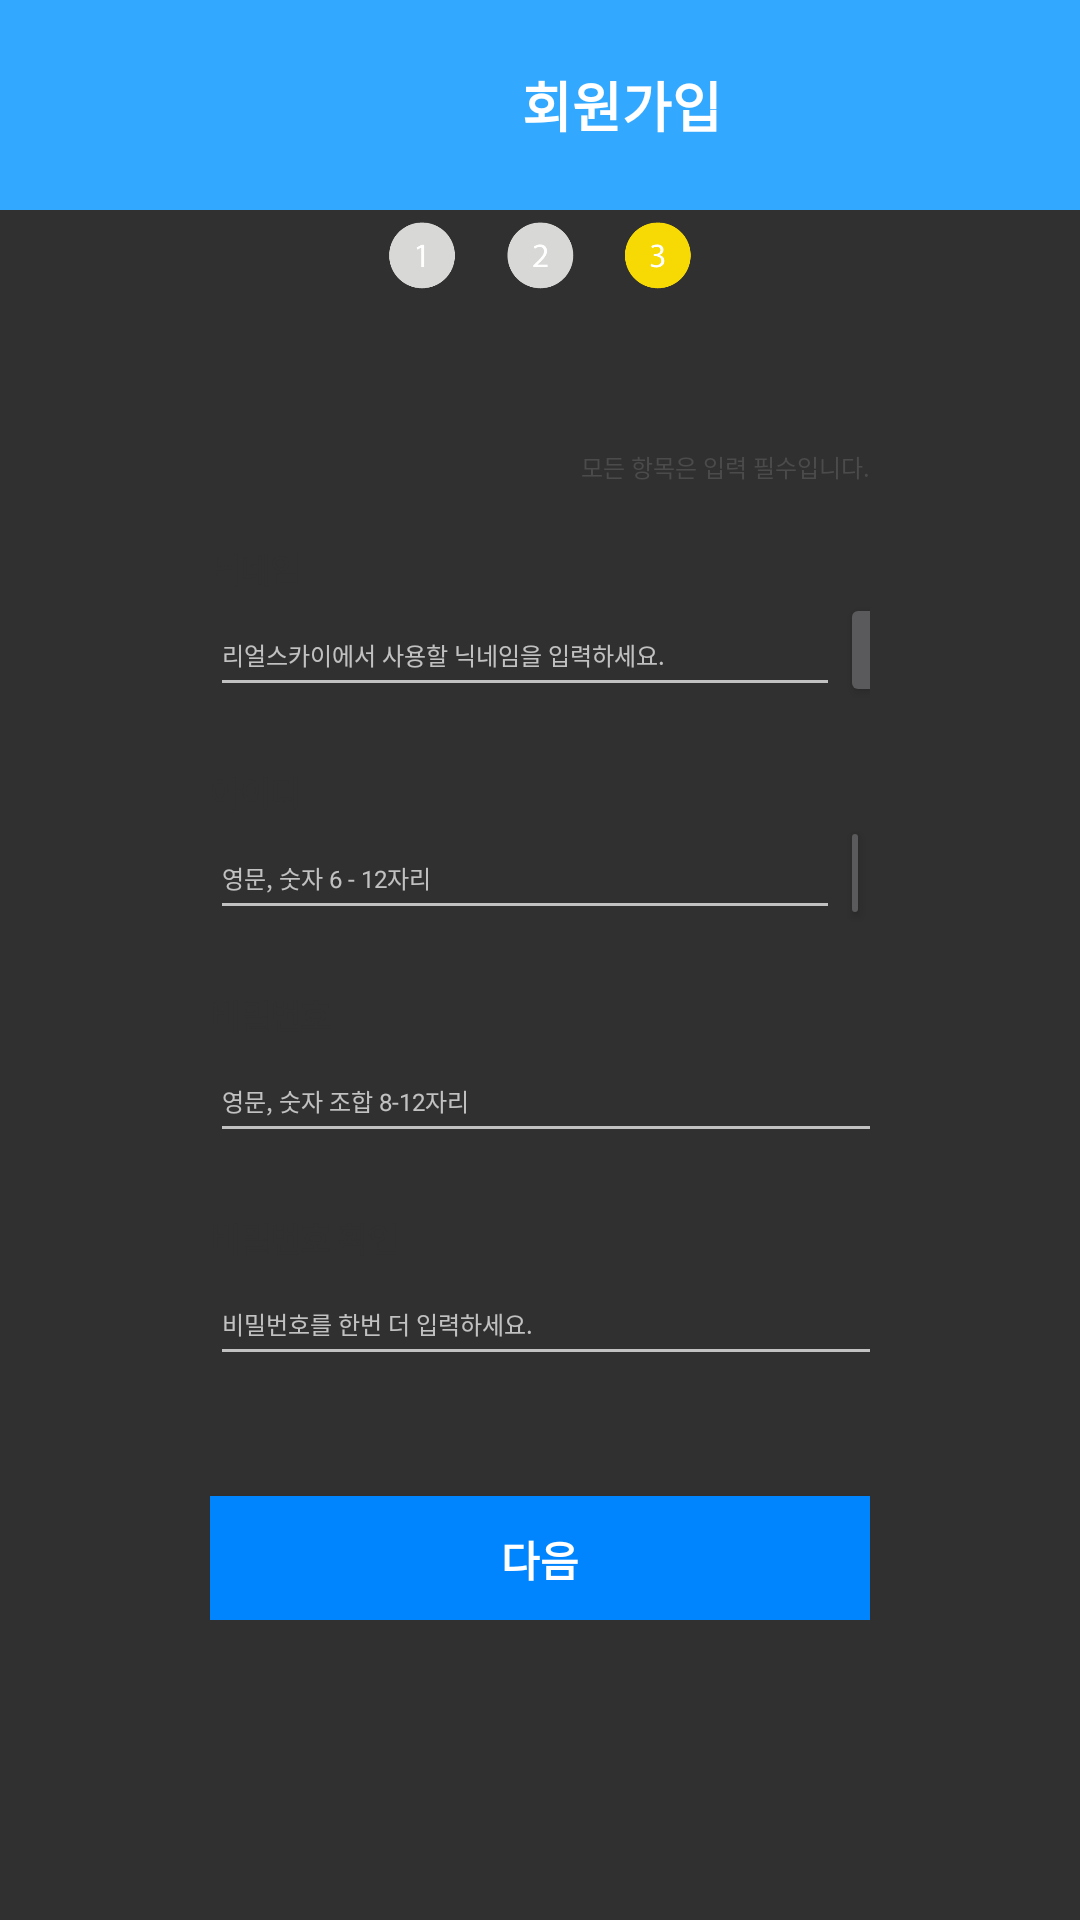

Screen size 1080px×1920px. Icon name, then its box in pixels as detection(x1, y1, x2, y2):
number: detection(389, 222, 691, 289)
